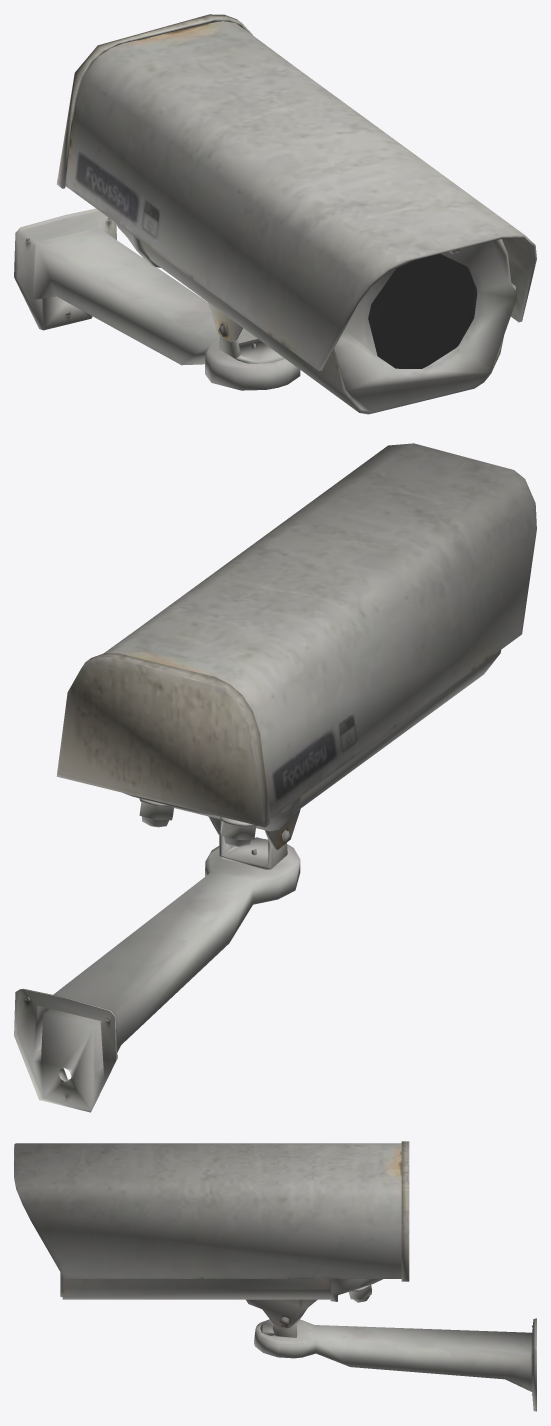
The model's file is security_camera_01.glb.
3 renders of one model, top to bottom at view 1: azimuth 30°, elevation 25°; view 2: azimuth 150°, elevation 25°; view 3: azimuth 270°, elevation 25°, orthographic. The views are drawn at different scales.
Visible parts, largest first — view 1: security_camera_01; view 2: security_camera_01; view 3: security_camera_01.
Part boxes in pixels (x1=…): security_camera_01: x1=14, y1=14, x2=536, y2=414; security_camera_01: x1=14, y1=443, x2=536, y2=1112; security_camera_01: x1=14, y1=1141, x2=536, y2=1411.
Size of the model in its own units: 0.1696 by 0.2848 by 0.5536.
Materials: 2 (2 with a texture image).
